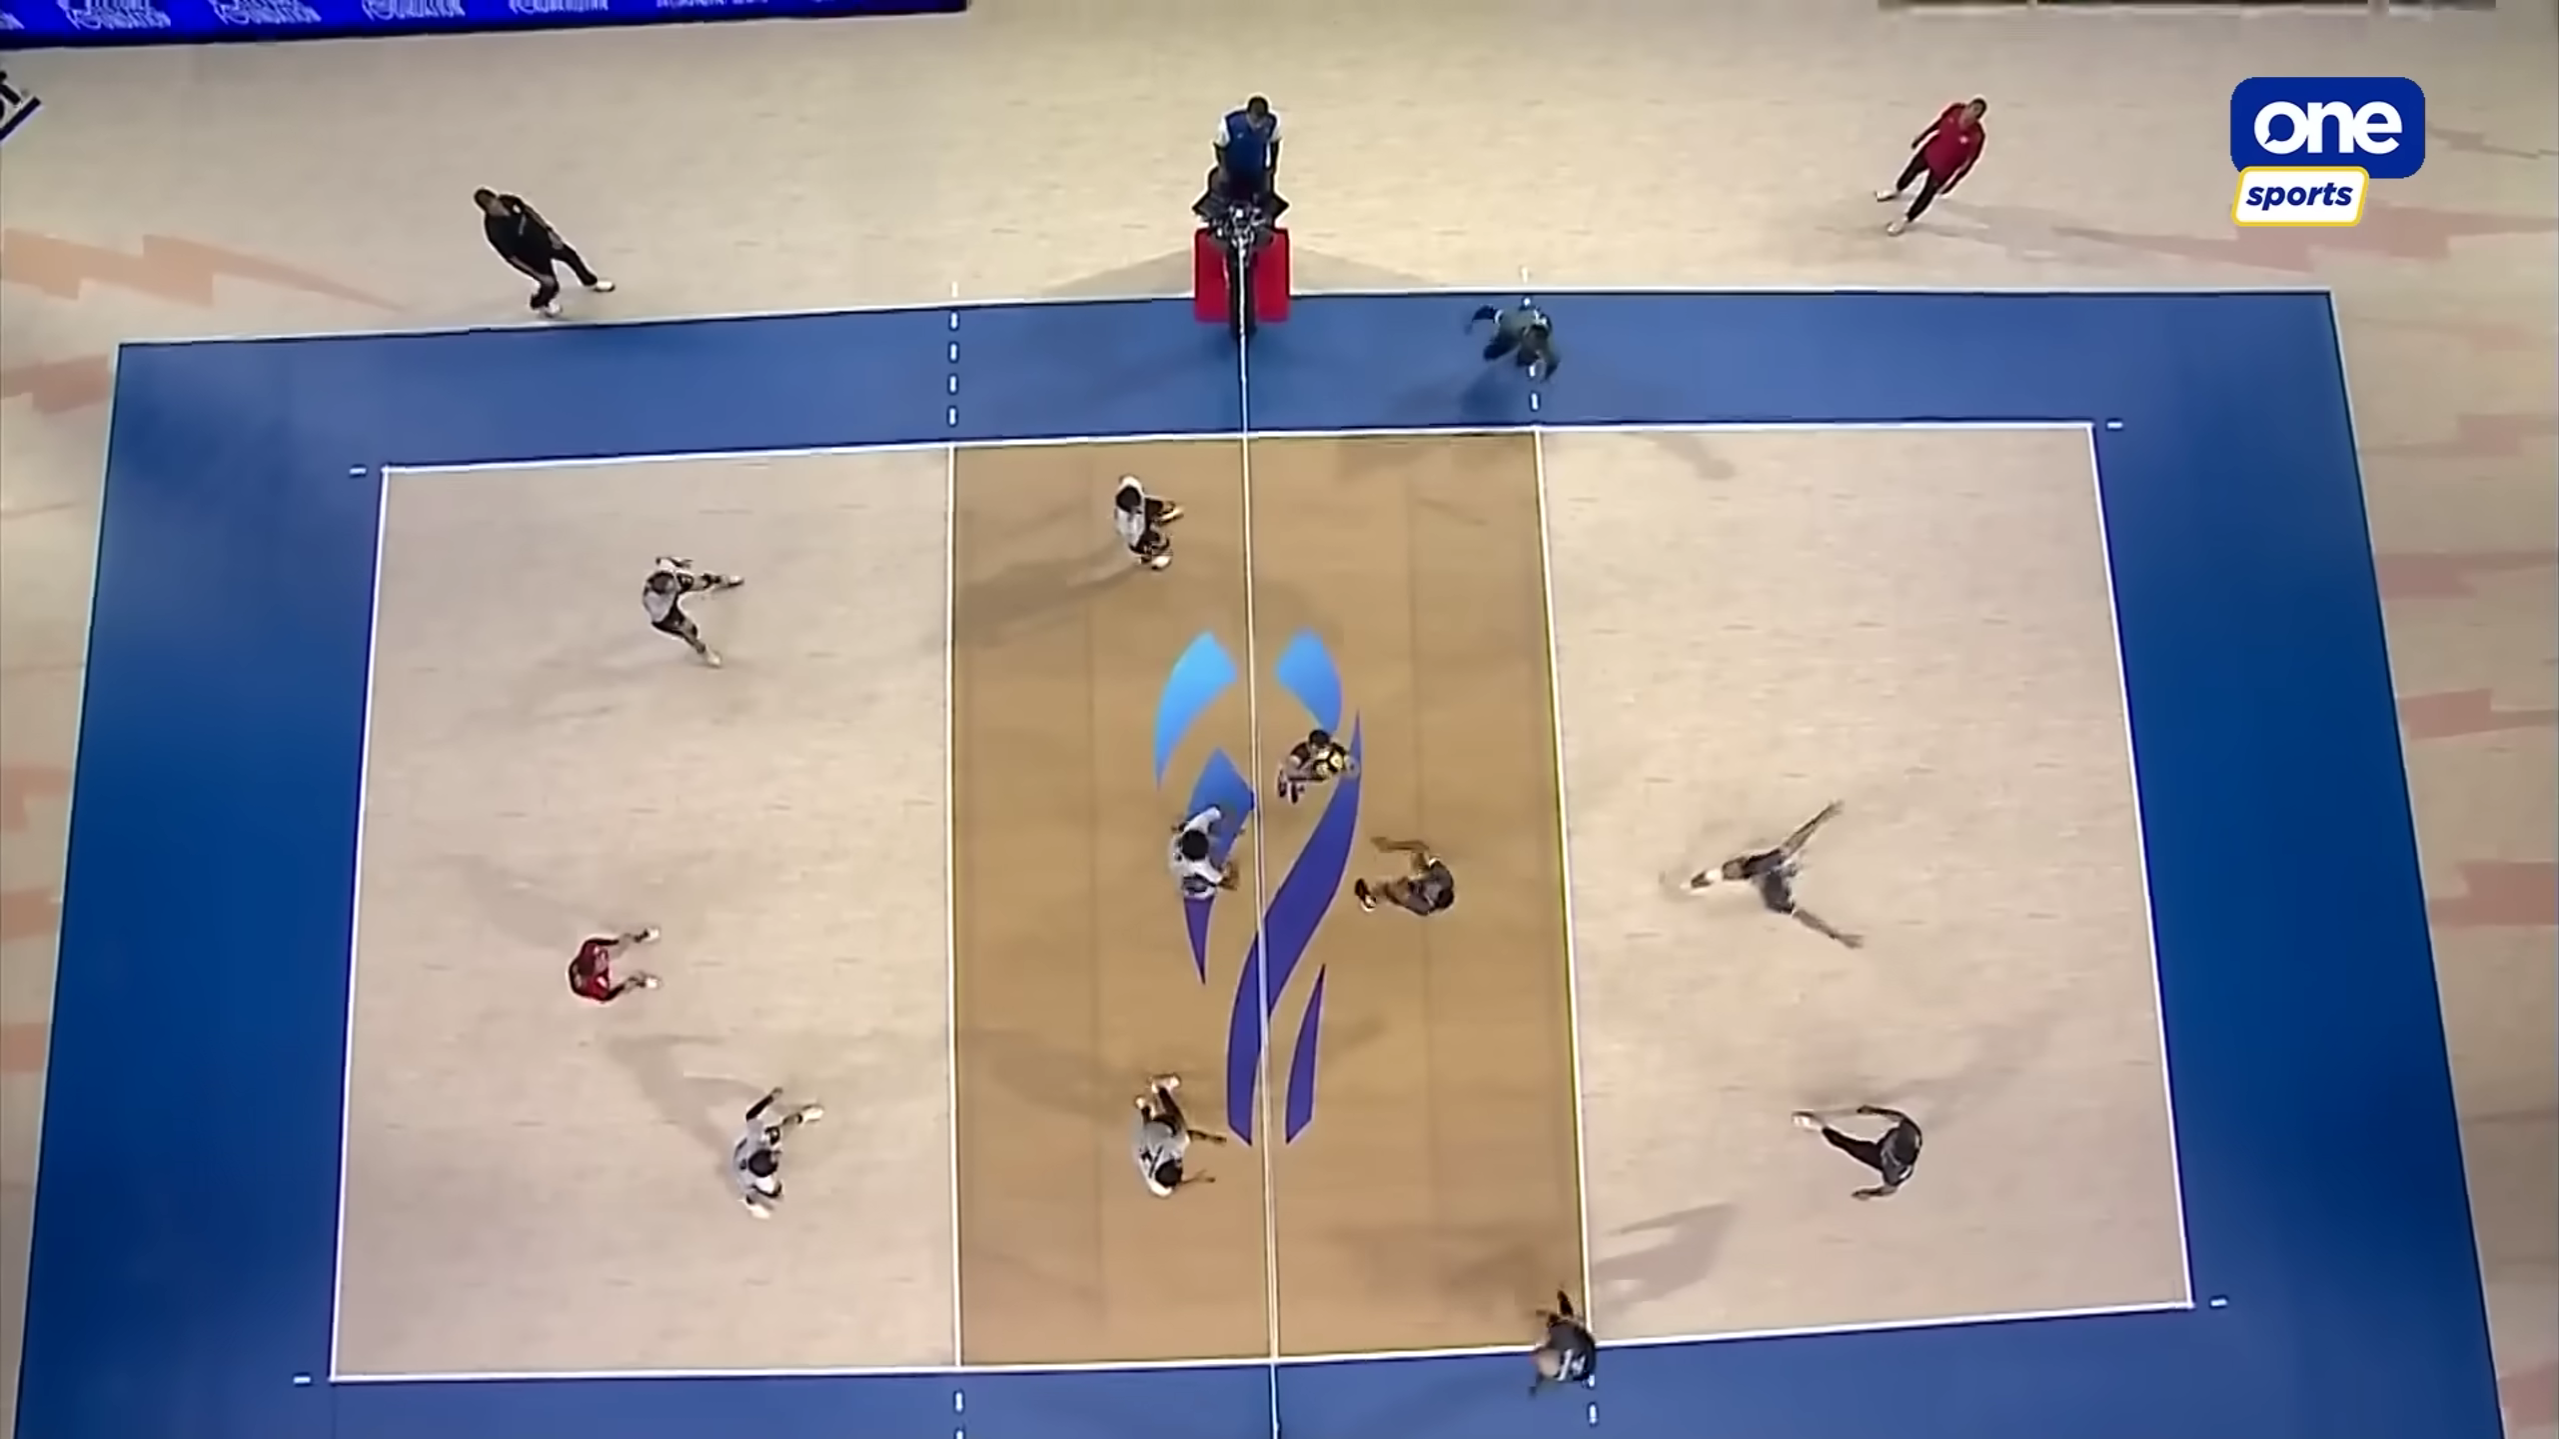Ball: (1311, 747, 1345, 780)
